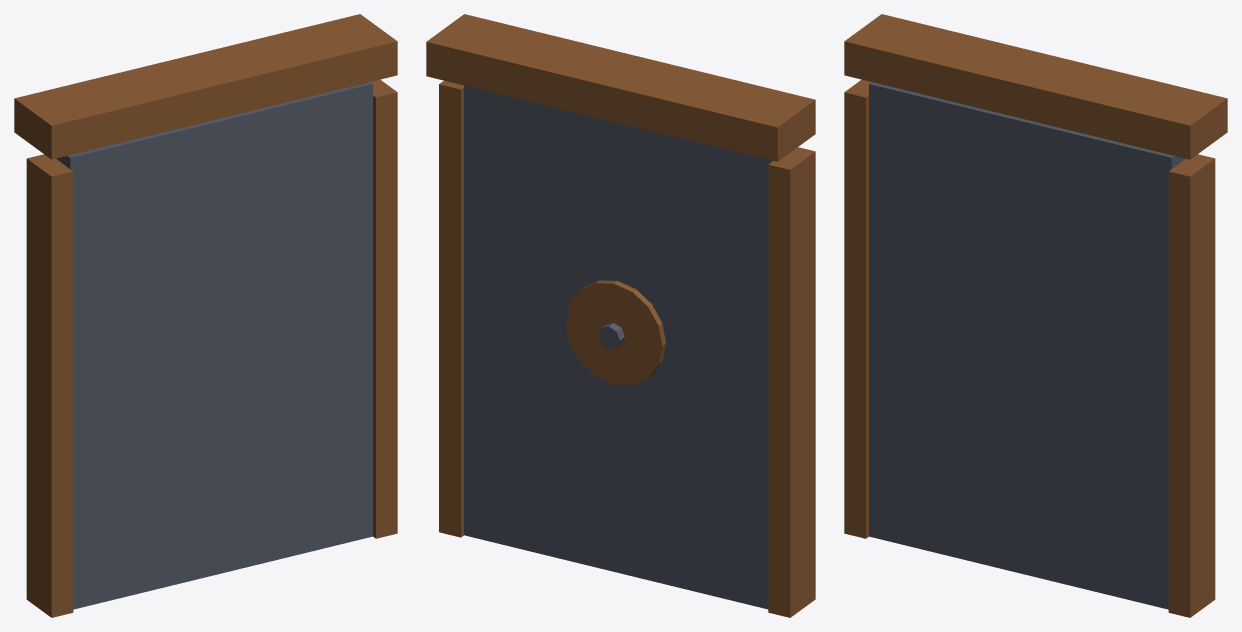
The model's file is hatch-inner.glb.
The picture shows the model from 3 angles, left to right: view 1: azimuth 30°, elevation 25°; view 2: azimuth 150°, elevation 25°; view 3: azimuth 330°, elevation 25°; orthographic projection.
Parts seen in each view (by area): view 1: hatch-inner; view 2: hatch-inner; view 3: hatch-inner.
Part boxes in pixels (x1=…): hatch-inner: x1=14, y1=14, x2=397, y2=617; hatch-inner: x1=426, y1=14, x2=815, y2=617; hatch-inner: x1=844, y1=14, x2=1227, y2=617.
Size of the model in its own units: 1.6 by 2.18 by 0.3.
